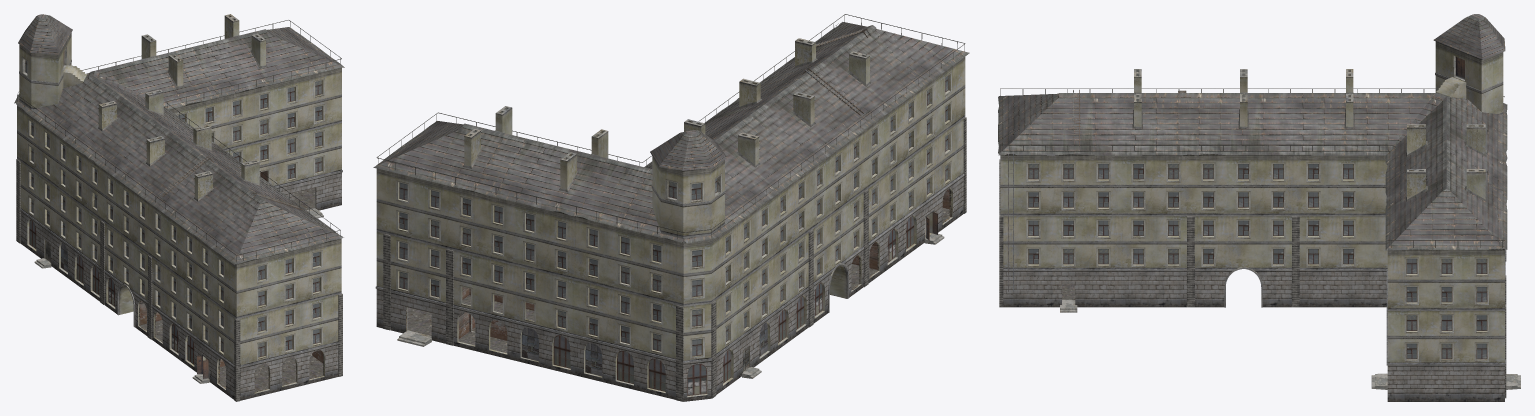
File: Building_City_03_3LOD2.FBX
The picture shows the model from 3 angles, left to right: view 1: azimuth 30°, elevation 25°; view 2: azimuth 150°, elevation 25°; view 3: azimuth 270°, elevation 25°; orthographic projection. The views are drawn at different scales.
Parts seen in each view (by area): view 1: Building_City_03_3LOD2, Building_City_03_3RoofLOD2, Building_City_03_3FrameLOD2, Building_City_03_3TowerLOD2, Building_City_03_3TubeLOD2; view 2: Building_City_03_3LOD2, Building_City_03_3RoofLOD2, Building_City_03_3FrameLOD2, Building_City_03_3TowerLOD2, Building_City_03_3TubeLOD2; view 3: Building_City_03_3LOD2, Building_City_03_3RoofLOD2, Building_City_03_3FrameLOD2, Building_City_03_3TowerLOD2, Building_City_03_3TubeLOD2.
Boxes of the visible parts, x1,y1,x2,y2 form: Building_City_03_3LOD2: (16, 68, 342, 401); Building_City_03_3RoofLOD2: (14, 20, 344, 264); Building_City_03_3FrameLOD2: (28, 78, 324, 360); Building_City_03_3TowerLOD2: (18, 14, 87, 109); Building_City_03_3TubeLOD2: (98, 14, 265, 199); Building_City_03_3LOD2: (375, 57, 966, 401); Building_City_03_3RoofLOD2: (373, 14, 969, 243); Building_City_03_3FrameLOD2: (396, 71, 951, 358); Building_City_03_3TowerLOD2: (650, 130, 726, 238); Building_City_03_3TubeLOD2: (464, 38, 869, 189); Building_City_03_3LOD2: (999, 154, 1520, 401); Building_City_03_3RoofLOD2: (998, 88, 1507, 250); Building_City_03_3FrameLOD2: (1026, 162, 1488, 361); Building_City_03_3TowerLOD2: (1433, 14, 1505, 114); Building_City_03_3TubeLOD2: (1134, 69, 1485, 199).
Size of the model in its own units: 3703 by 5201 by 2719.
Materials: 6 (6 with a texture image).
